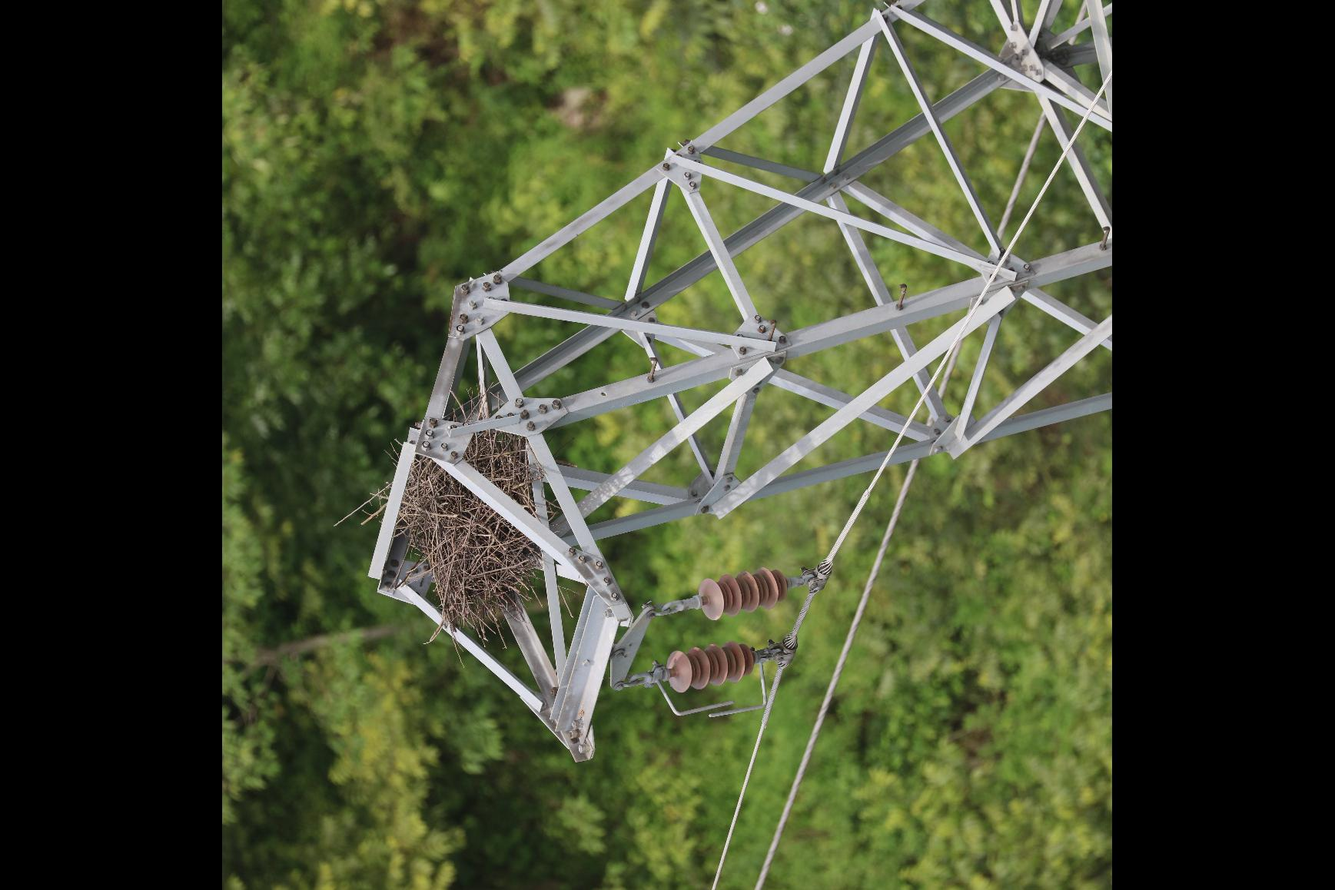nest: (379, 390, 549, 648)
